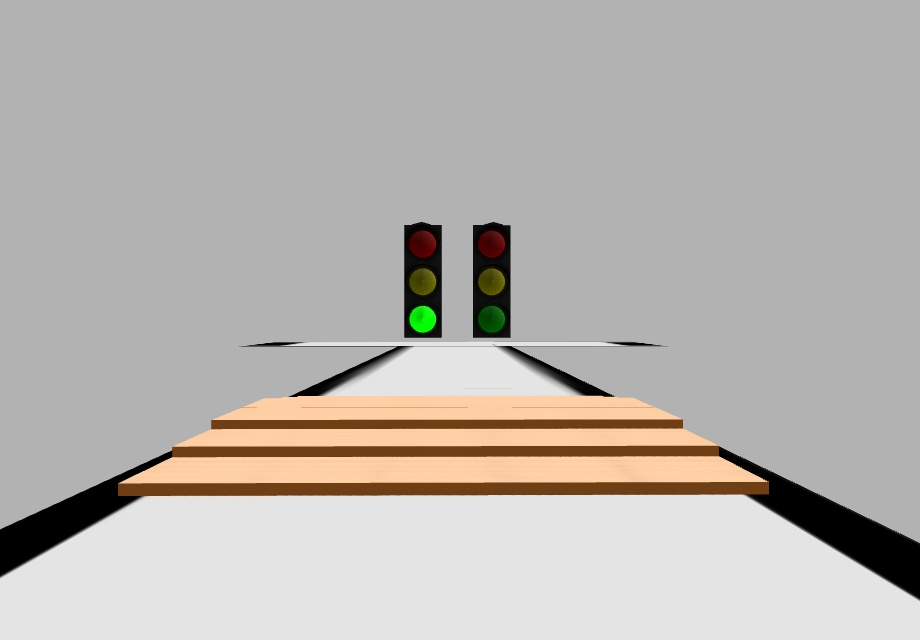green_off: (475, 302, 508, 336)
green_on: (406, 301, 441, 333)
stairs: (115, 396, 769, 496)
